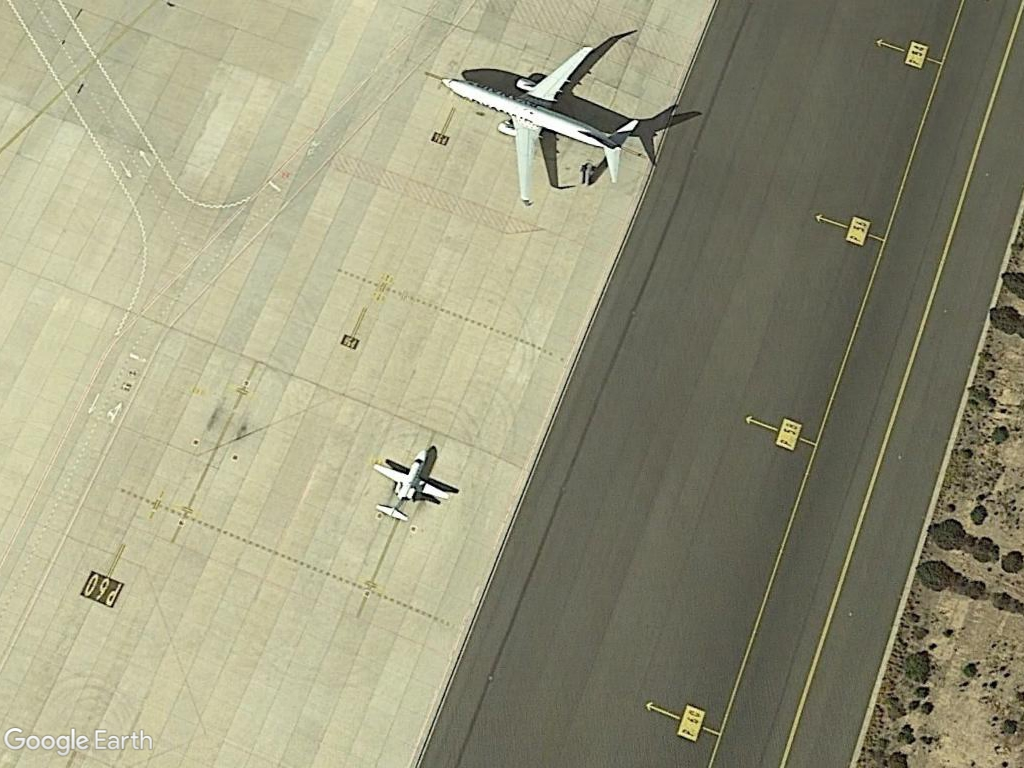airliner: (430, 28, 657, 213)
chartered: (371, 446, 457, 528)
